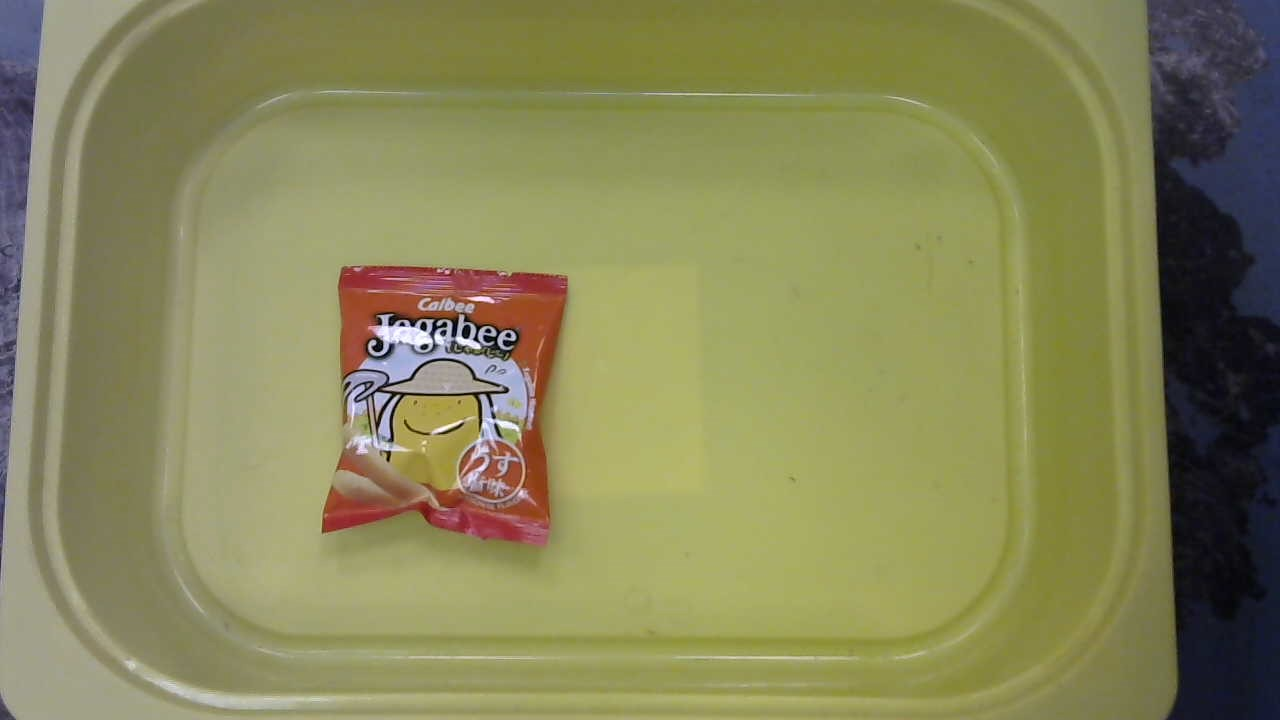JagabeeFarmer: (318, 257, 574, 556)
